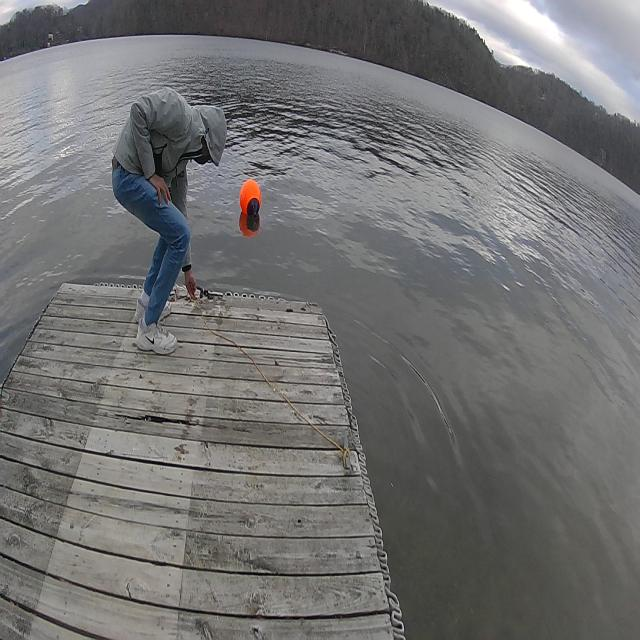Buoy: (236, 163, 267, 237)
